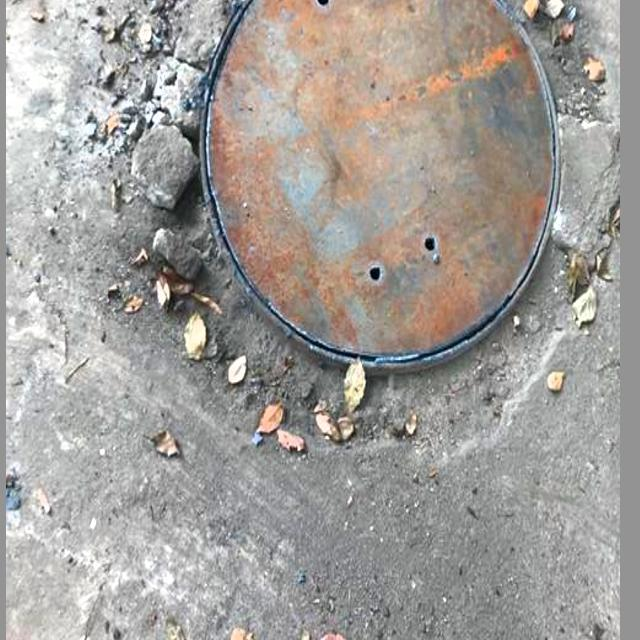circle: (80, 0, 603, 489)
